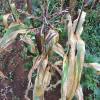Corn leaf blight: (65, 29, 86, 99), (0, 21, 34, 51), (23, 52, 41, 99), (33, 55, 49, 99), (46, 29, 59, 60)
